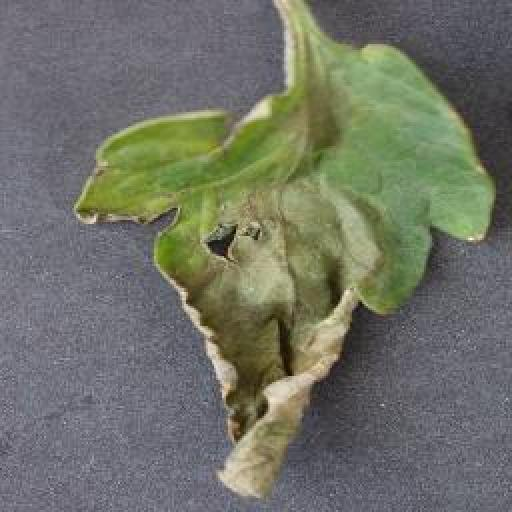Late Blight: (76, 43, 495, 500)
